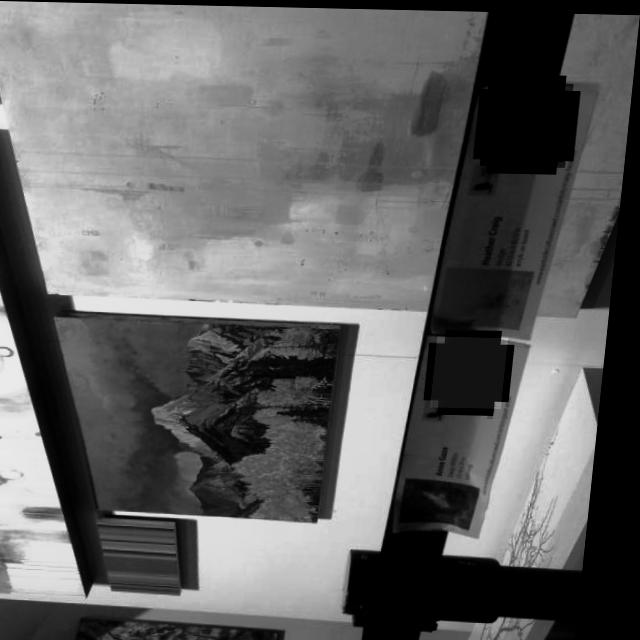qr_code: (483, 79, 575, 164), (439, 333, 515, 405)
